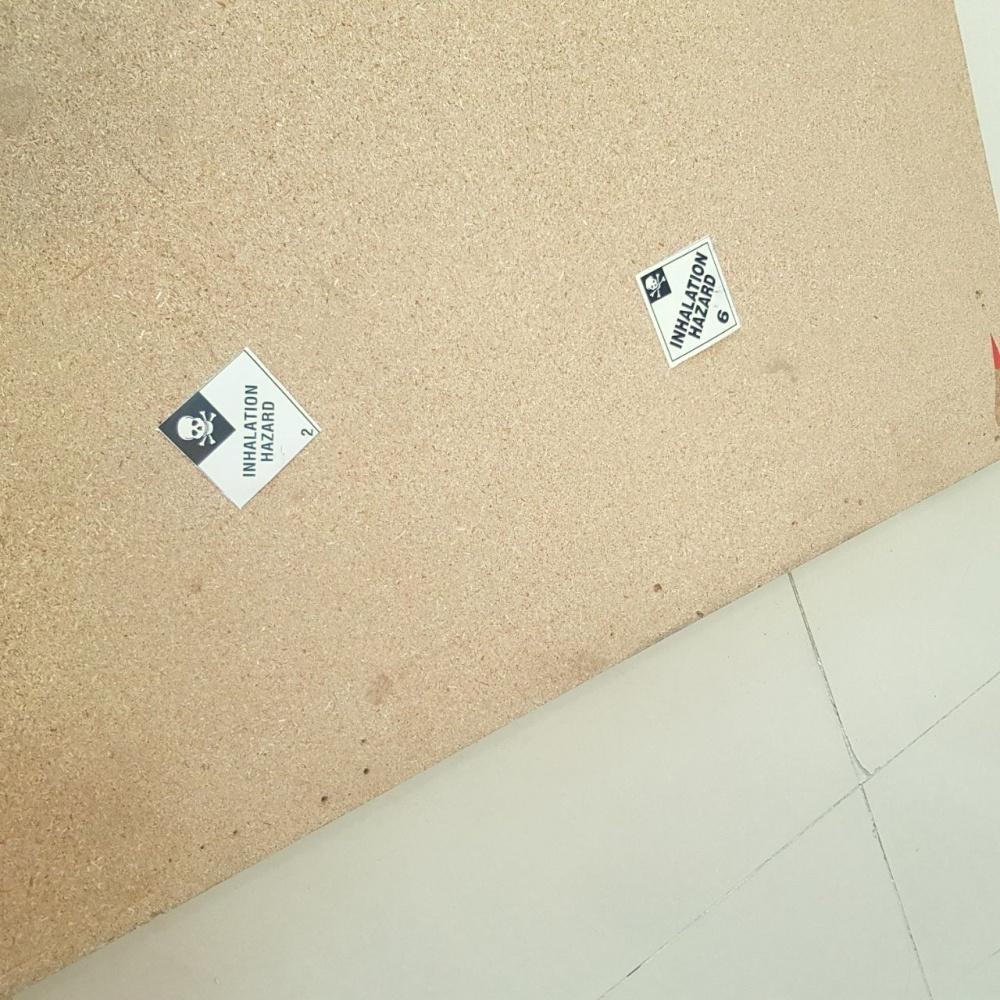poison: (157, 346, 321, 509), (635, 234, 743, 367)
